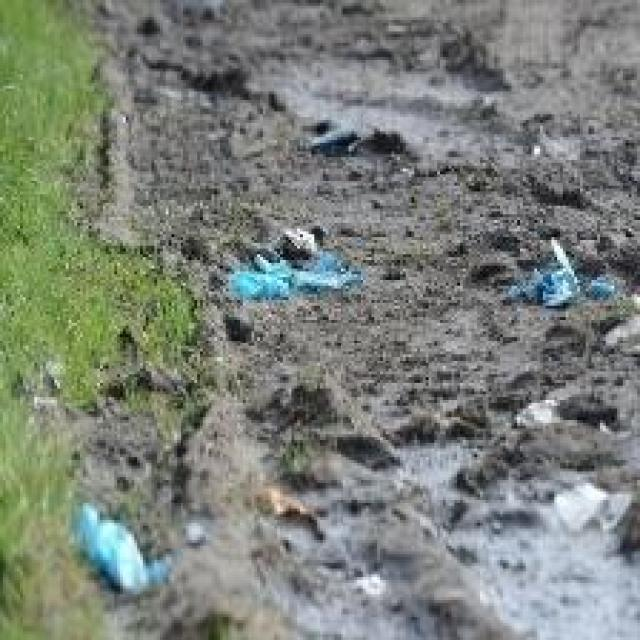Glove: (231, 216, 363, 313), (64, 496, 173, 589), (508, 248, 614, 316)
